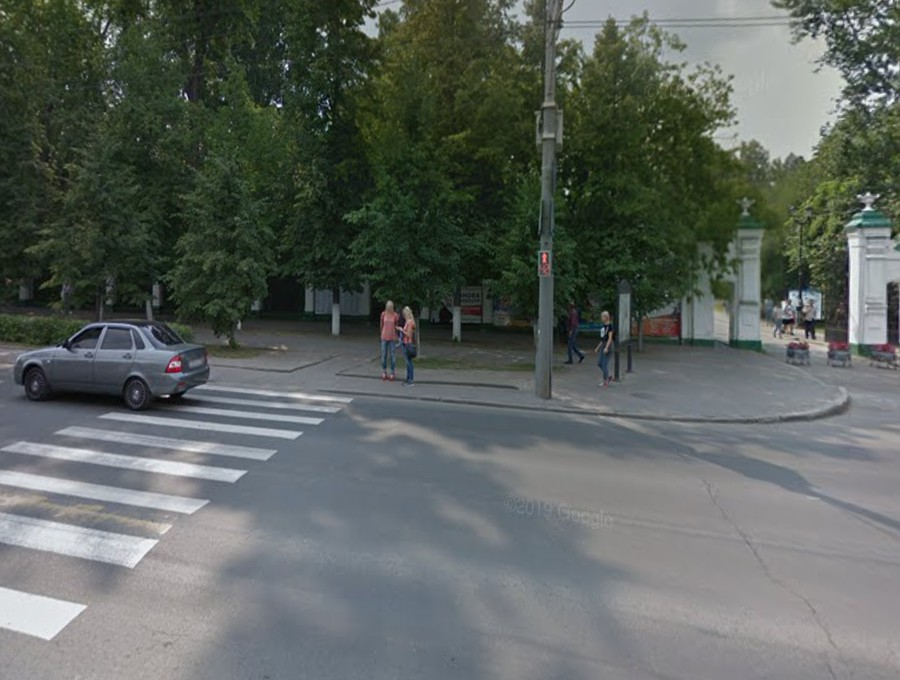Traffic Light-red: (529, 245, 552, 281)
